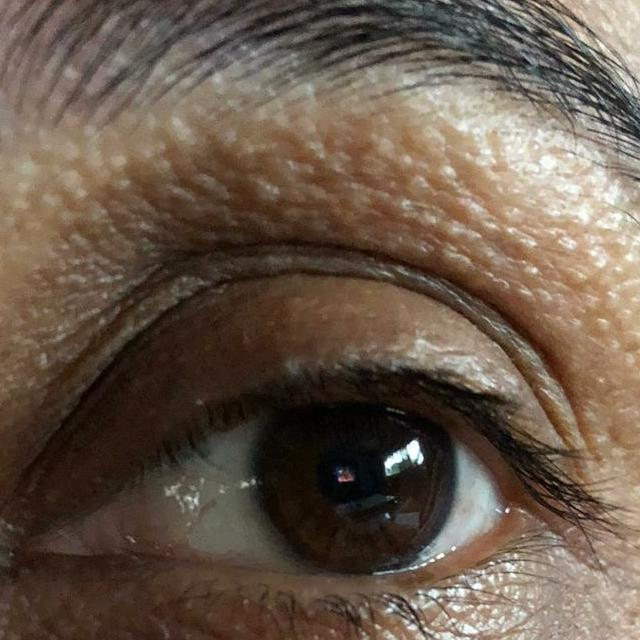eye: (118, 393, 509, 578)
iris: (252, 404, 457, 568)
